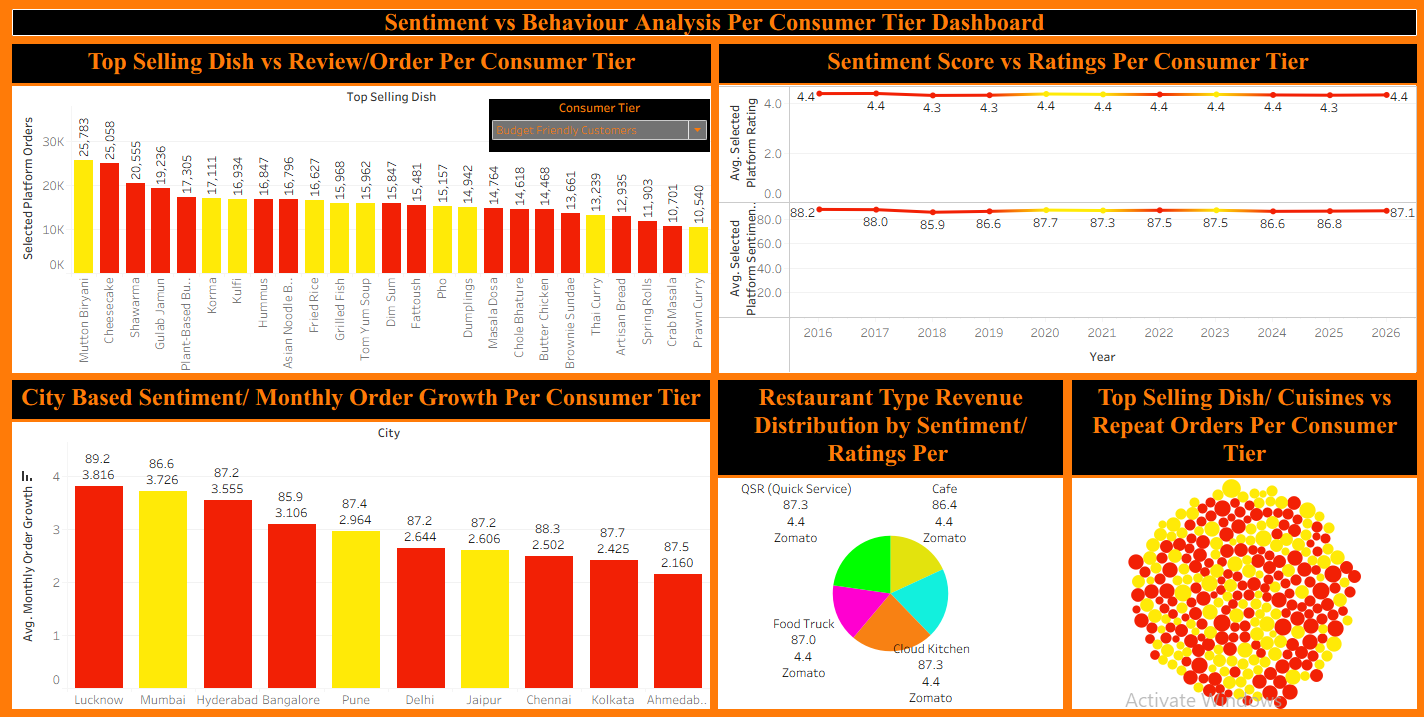

What the dashboard file says about the page in this screenshot:
{"tool":"tableau","page":{"name":"Sentiment vs Behaviour Analysis Per Consumer Tier Dashboard","canvas":[1000,1000],"units":"permille","ordinal":3},"visuals":[{"type":"title","box":[5.8,11.1,988.5,48.3]},{"type":"worksheet","title":"Top Selling Dish vs Review/Order Per Consumer Tier","mark":"Automatic","rows":["Calculation_0562167627137029"],"cols":["Top Selling Dish"],"box":[5.8,59.4,494.7,464.8]},{"type":"worksheet","title":"Sentiment Score vs Ratings Per Consumer Tier","mark":"Automatic","rows":["Calculation_0562167625850883","Calculation_0351612913262592"],"cols":["Listing Date"],"box":[500.4,59.4,493.8,464.8]},{"type":"parameter","param":"[Parameters].[Parameter 1]","box":[342,140.2,155,74.3]},{"type":"worksheet","title":"City Based Sentiment/ Monthly Order Growth Per Consumer Tier","mark":"Automatic","rows":["Monthly Order Growth"],"cols":["city"],"box":[5.8,524.2,494.2,464.8]},{"type":"worksheet","title":"Restaurant Type Revenue Distribution by Sentiment/Ratings Per ","mark":"Pie","box":[500,524.2,247.1,464.8]},{"type":"worksheet","title":"Top Selling Dish/ Cuisines vs Repeat Orders Per Consumer Tier","mark":"Circle","box":[747,524.2,247.2,464.8]}]}

Visuals, with their boxes on the dashboard's canvas, which has no fixed pixel size, in thousandths of its width and height (x1, y1, x2, y2). These are canvas units, not pixel positions in the 1424x717 screenshot, which may show the page scaled, cropped or inside an application window:
title: bbox=[6, 11, 994, 59]
"Top Selling Dish vs Review/Order Per Consumer Tier" worksheet: bbox=[6, 59, 500, 524]
"Sentiment Score vs Ratings Per Consumer Tier" worksheet: bbox=[500, 59, 994, 524]
parameter: bbox=[342, 140, 497, 214]
"City Based Sentiment/ Monthly Order Growth Per Consumer Tier" worksheet: bbox=[6, 524, 500, 989]
"Restaurant Type Revenue Distribution by Sentiment/Ratings Per " worksheet (Pie marks): bbox=[500, 524, 747, 989]
"Top Selling Dish/ Cuisines vs Repeat Orders Per Consumer Tier" worksheet (Circle marks): bbox=[747, 524, 994, 989]
